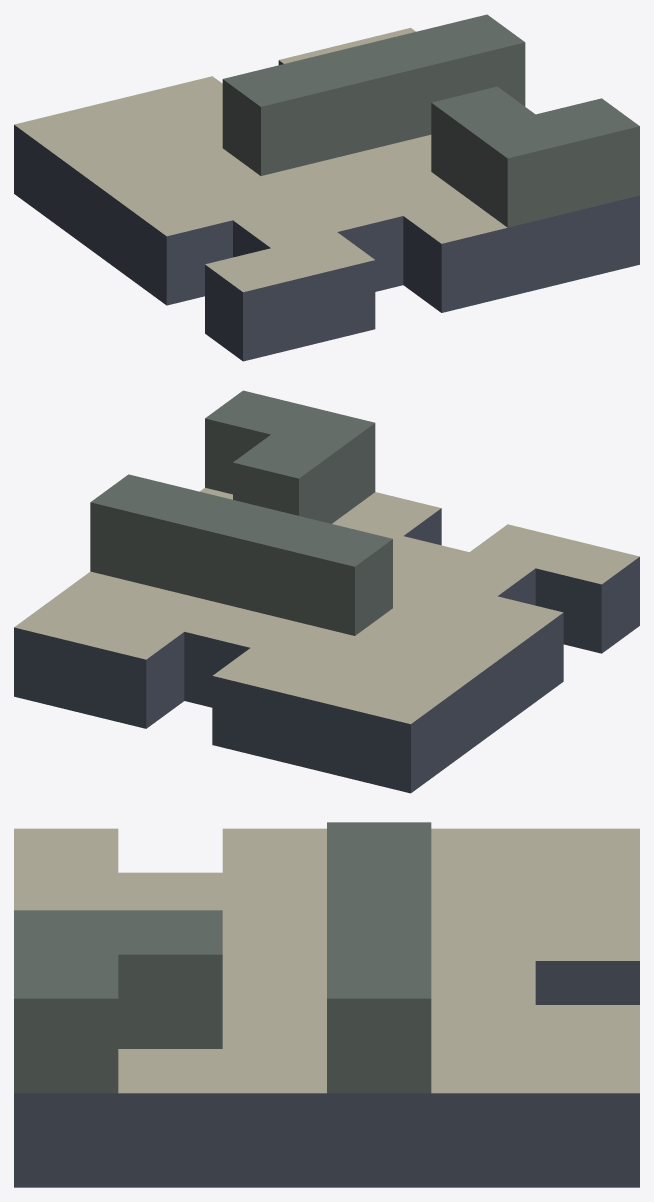
The picture shows the model from 3 angles, top to bottom: view 1: azimuth 30°, elevation 25°; view 2: azimuth 150°, elevation 25°; view 3: azimuth 270°, elevation 25°; orthographic projection. The views are drawn at different scales.
Visible parts, largest first — view 1: 4.3; view 2: 4.3; view 3: 4.3.
Boxes of the visible parts, left/top/right/bottom form: 4.3: left=14, top=14, right=639, bottom=361; 4.3: left=14, top=390, right=639, bottom=793; 4.3: left=14, top=822, right=639, bottom=1187.
Size of the model in its own units: 600 by 200 by 600.
